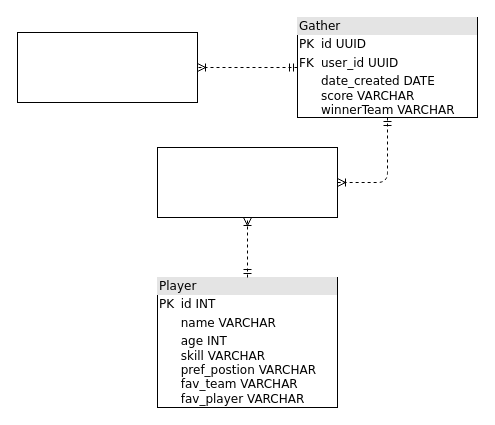
Image size: 495x425. Some labels were removed from this diagram. Each missing label, with the centre of its shape:
"PlayerGather PK/FK gather_id UUID PK/FK player_id Int team: String" goes at [247,182].
"User PK id UUID username VARCHAR password VARCHAR" goes at [107,67].
